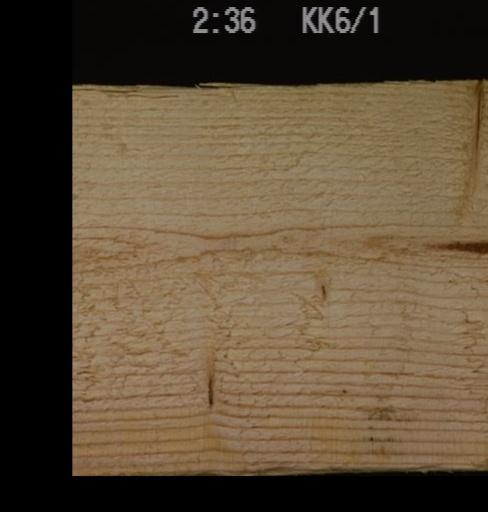small_knot: (306, 277, 337, 310)
split: (72, 84, 184, 102)
